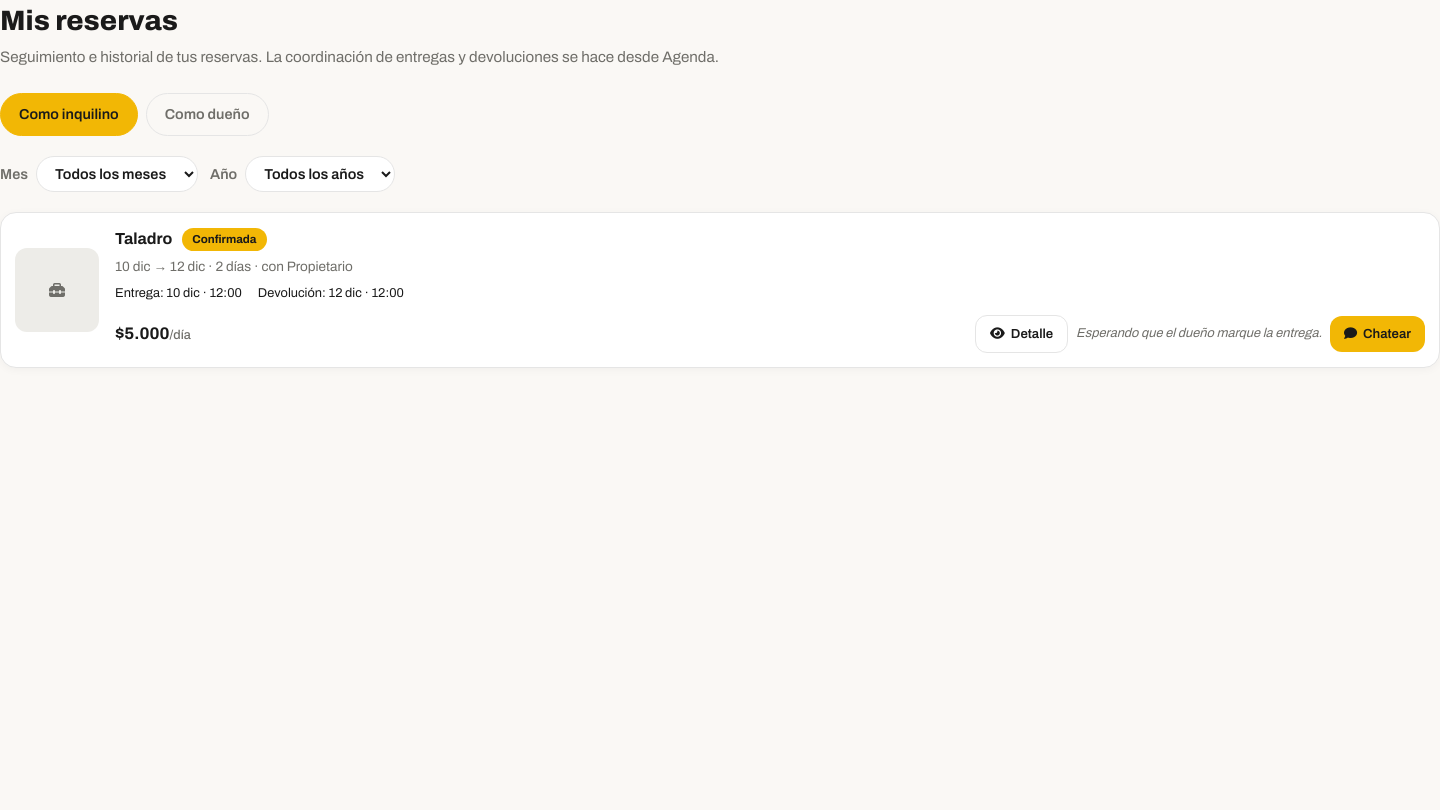
Scenario: ReservasList — seguimiento/historial (Bloque 3) › conserva Detalle y Chat; Cancelar vive dentro del detalle
The width and height of the screenshot is (1440, 810).
Expected: the button "Detalle" is shown, x1=975 y1=315 x2=1068 y2=353
Step 1. Click the button "Chatear" → {"x": 1378, "y": 334}, box x1=1330 y1=316 x2=1425 y2=352
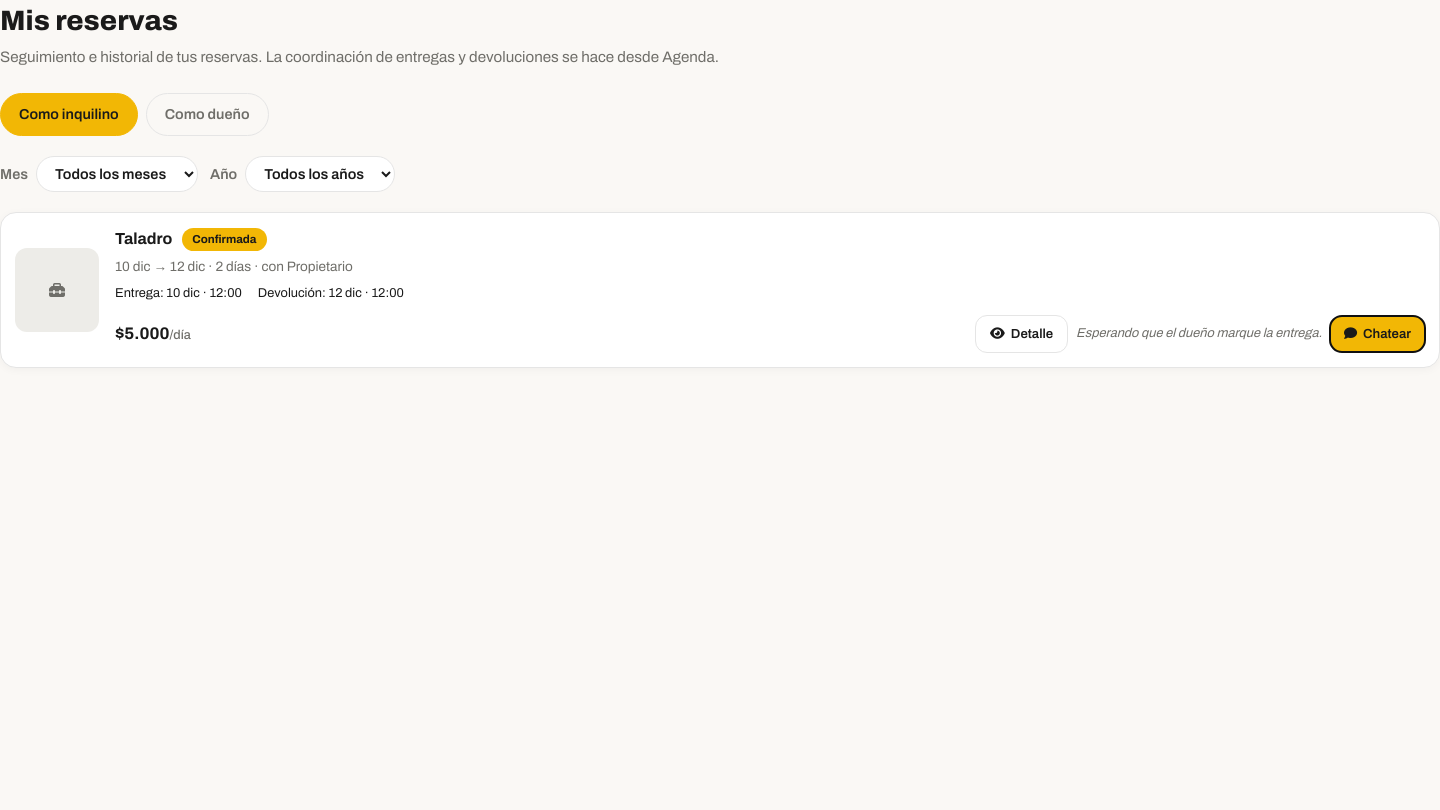
Expected: the button "cancelar" is not shown
Step 2. Click the button "Detalle" → {"x": 1022, "y": 334}, box x1=975 y1=315 x2=1068 y2=353
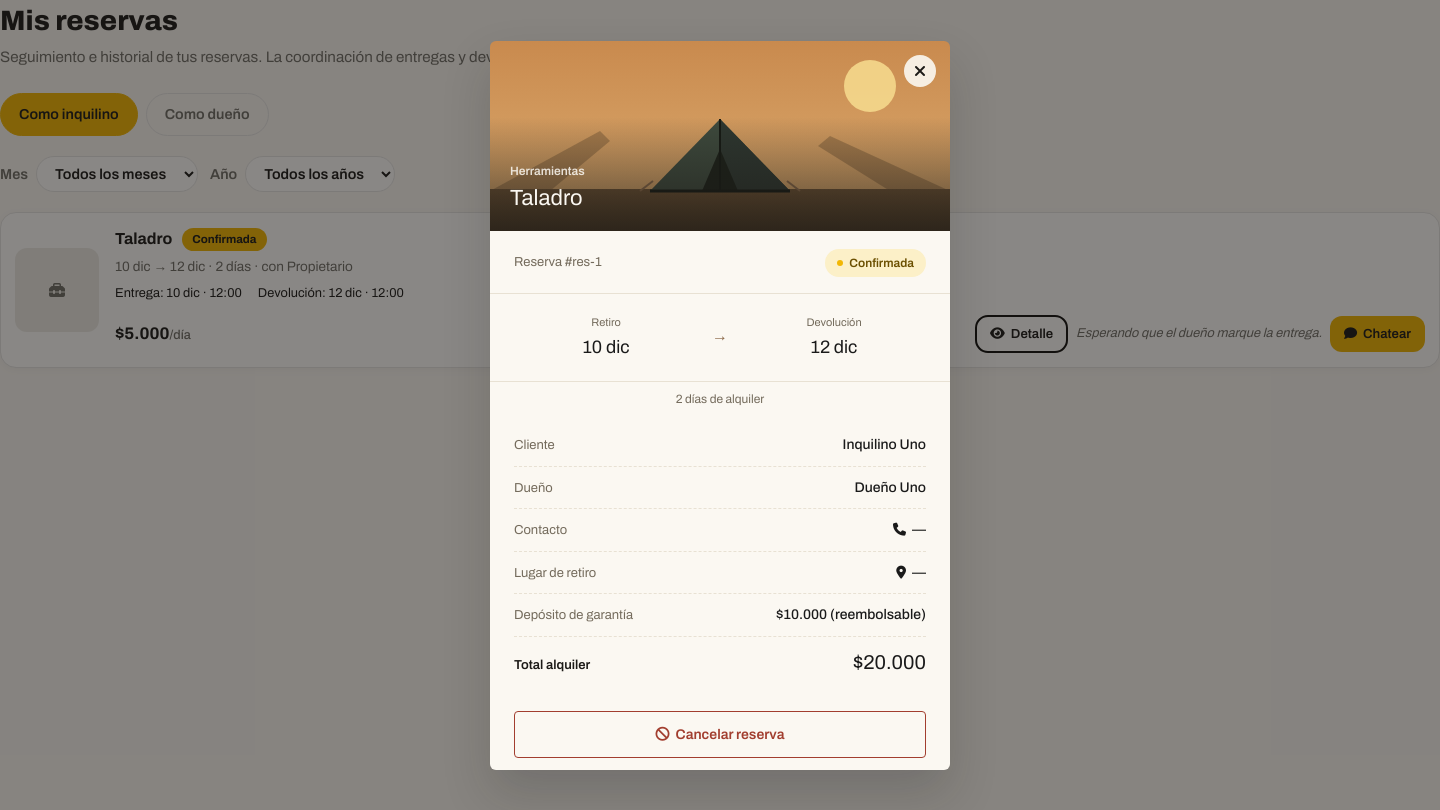
Result: the dialog is shown at x1=490 y1=40 x2=950 y2=770
Result: the button "Cancelar reserva" is shown at x1=514 y1=710 x2=926 y2=758
